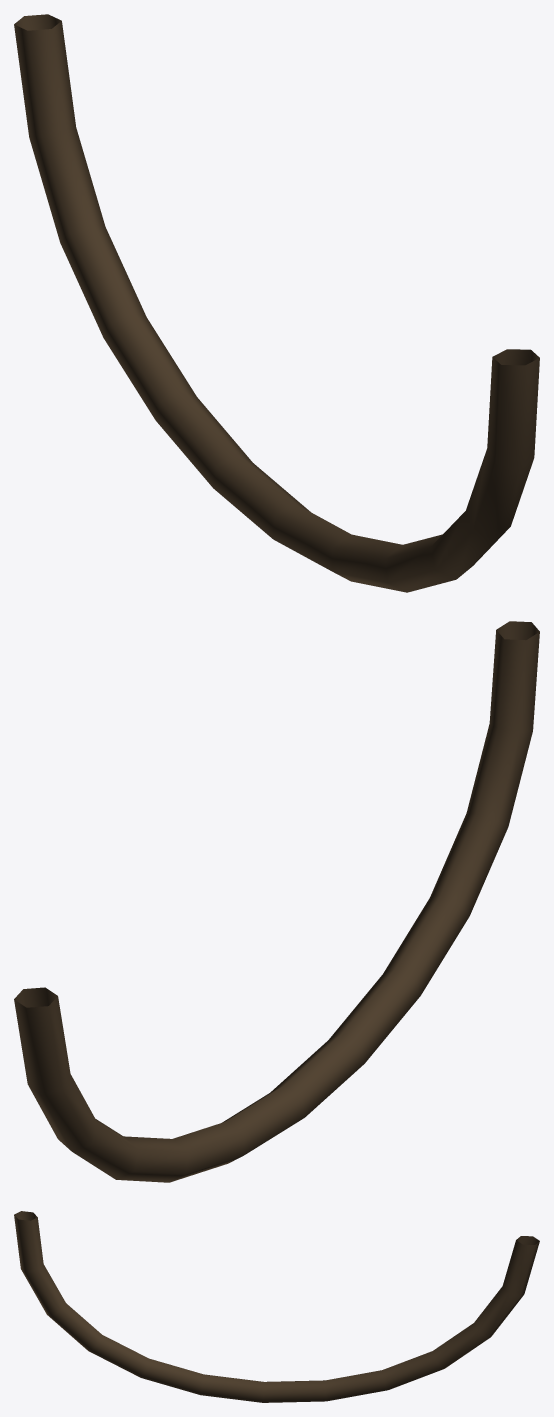
The model's file is wire_3.glb.
3 renders of one model, top to bottom at view 1: azimuth 30°, elevation 25°; view 2: azimuth 150°, elevation 25°; view 3: azimuth 270°, elevation 25°, orthographic. The views are drawn at different scales.
Parts seen in each view (by area): view 1: wire_3_mesh; view 2: wire_3_mesh; view 3: wire_3_mesh.
Part boxes in pixels (left/top/right/bottom): wire_3_mesh: left=14, top=14, right=539, bottom=592; wire_3_mesh: left=14, top=621, right=539, bottom=1182; wire_3_mesh: left=14, top=1211, right=539, bottom=1402.
Size of the model in its own units: 0.1475 by 0.8453 by 2.18.
